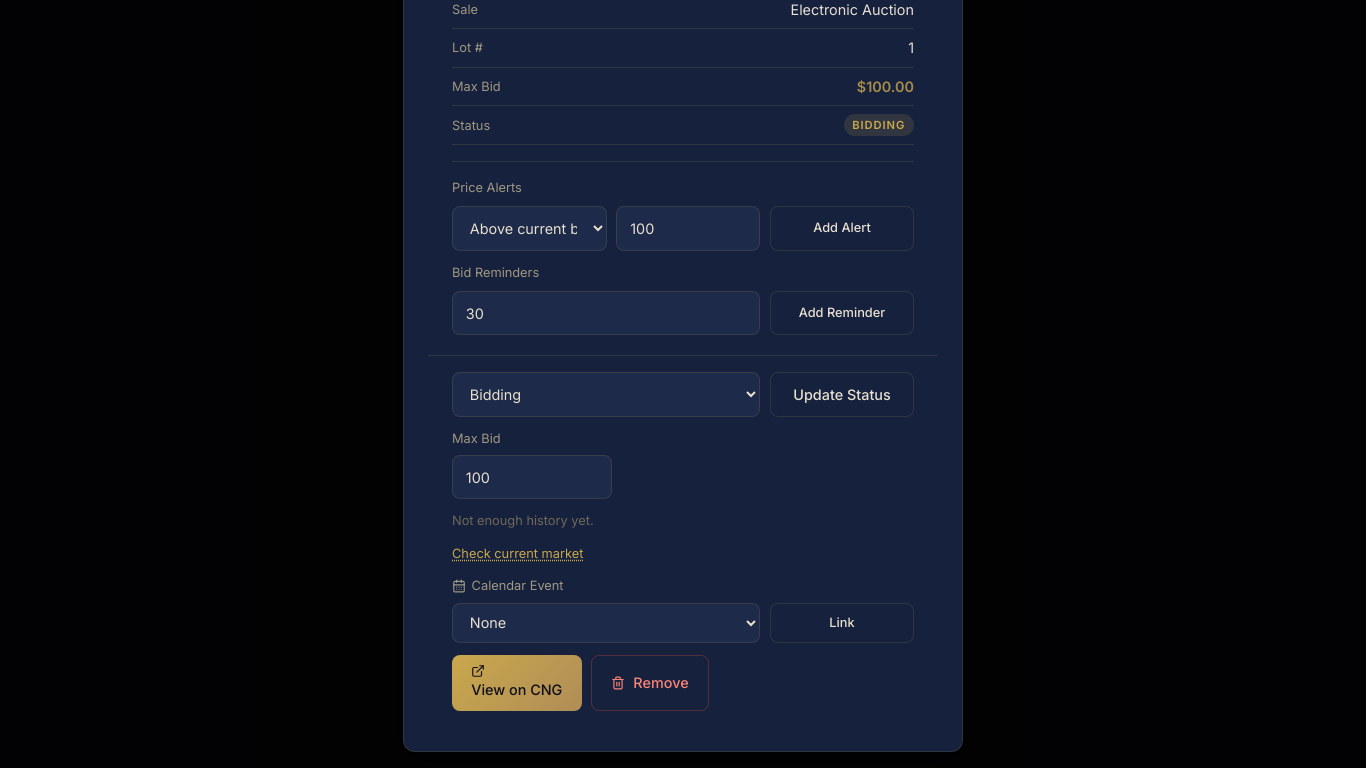
Test case: AuctionLotDetailModal › fetches and shows the market signal when the user requests it
(page scrolled)
Click the button "Check current market" at [518, 554], box [452, 544, 583, 564]
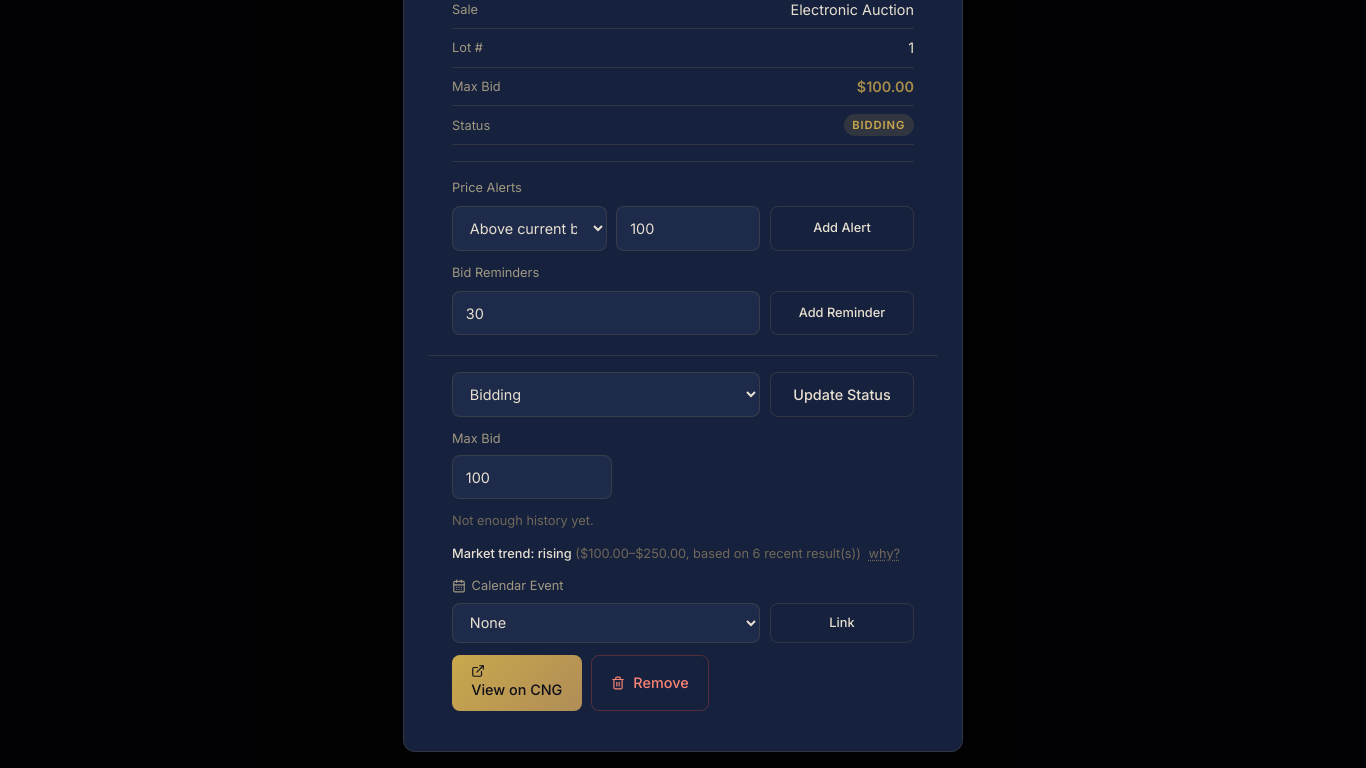
Expected: the text "$100.00" is shown, [857, 76, 914, 97]
Expected: the text "Market trend: rising" is shown, [452, 546, 572, 561]
Expected: the text "$250.00" is shown, [572, 546, 865, 561]
